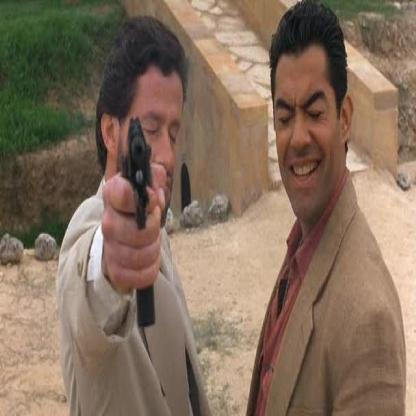gun: (126, 99, 164, 339)
